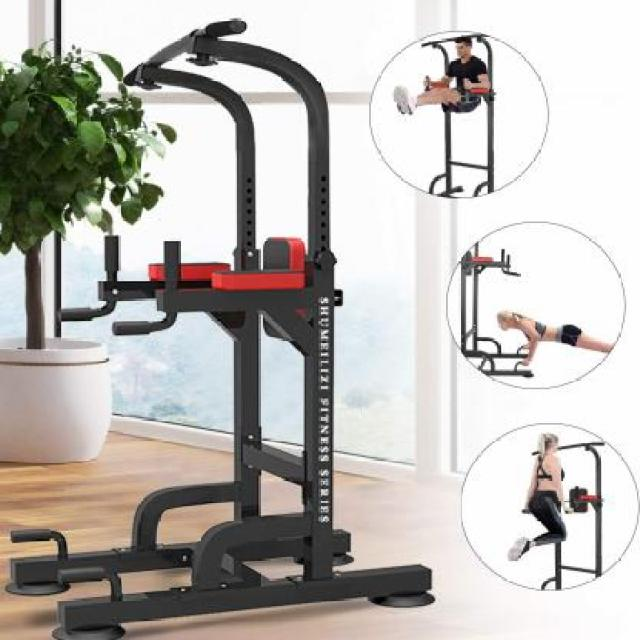chinning dipping: (11, 18, 352, 640)
